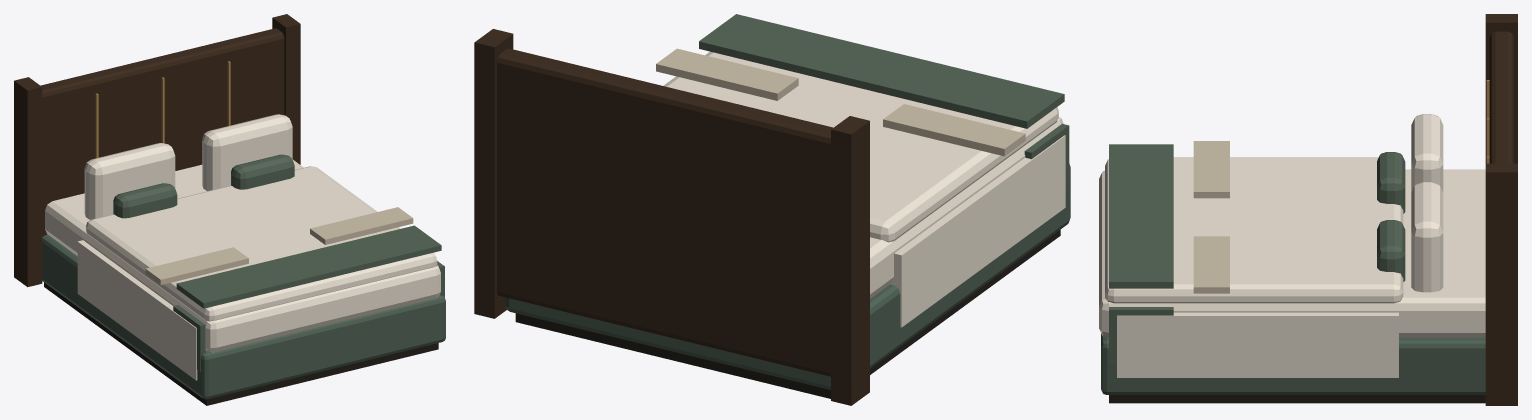
The picture shows the model from 3 angles, left to right: view 1: azimuth 30°, elevation 25°; view 2: azimuth 150°, elevation 25°; view 3: azimuth 270°, elevation 25°; orthographic projection. The views are drawn at different scales.
Parts seen in each view (by area): view 1: double-bed; view 2: double-bed; view 3: double-bed.
Boxes of the visible parts, x1,y1,x2,y2 form: double-bed: [14, 14, 445, 405]; double-bed: [474, 14, 1070, 405]; double-bed: [1099, 14, 1517, 405].
Size of the model in its own units: 1.86 by 1.33 by 2.08.
